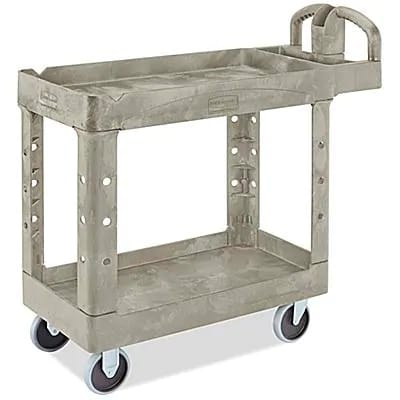Carts: (17, 4, 383, 393)
